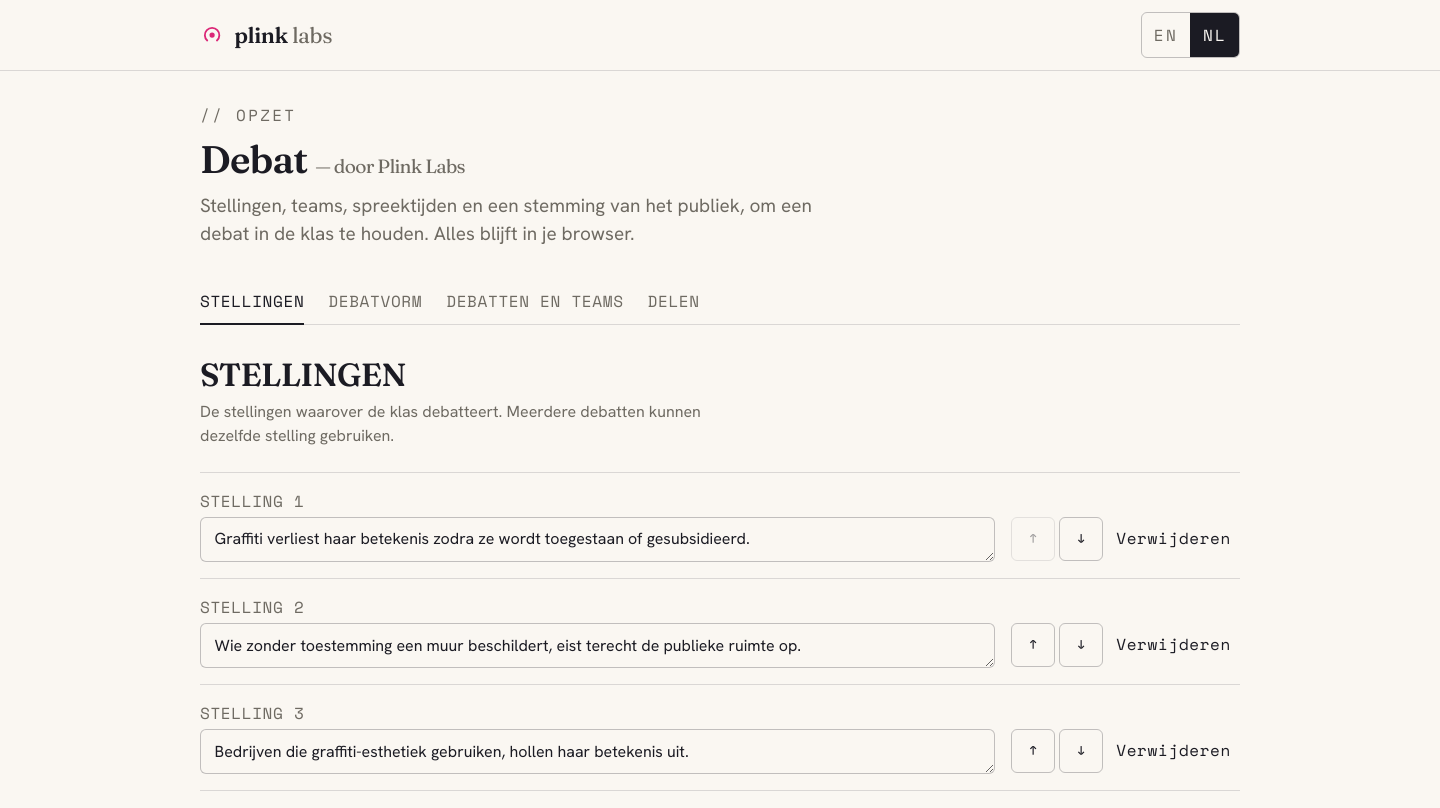
Scenario: App › renders in Dutch, and builds the default setup in the UI language
expect the heading "Debat — door Plink Labs" is shown: met, box [200, 135, 465, 183]
expect the text "// Opzet" is shown: met, box [200, 103, 296, 127]
Click the tab "Debatvorm".
click(375, 303)  # box [328, 281, 422, 325]
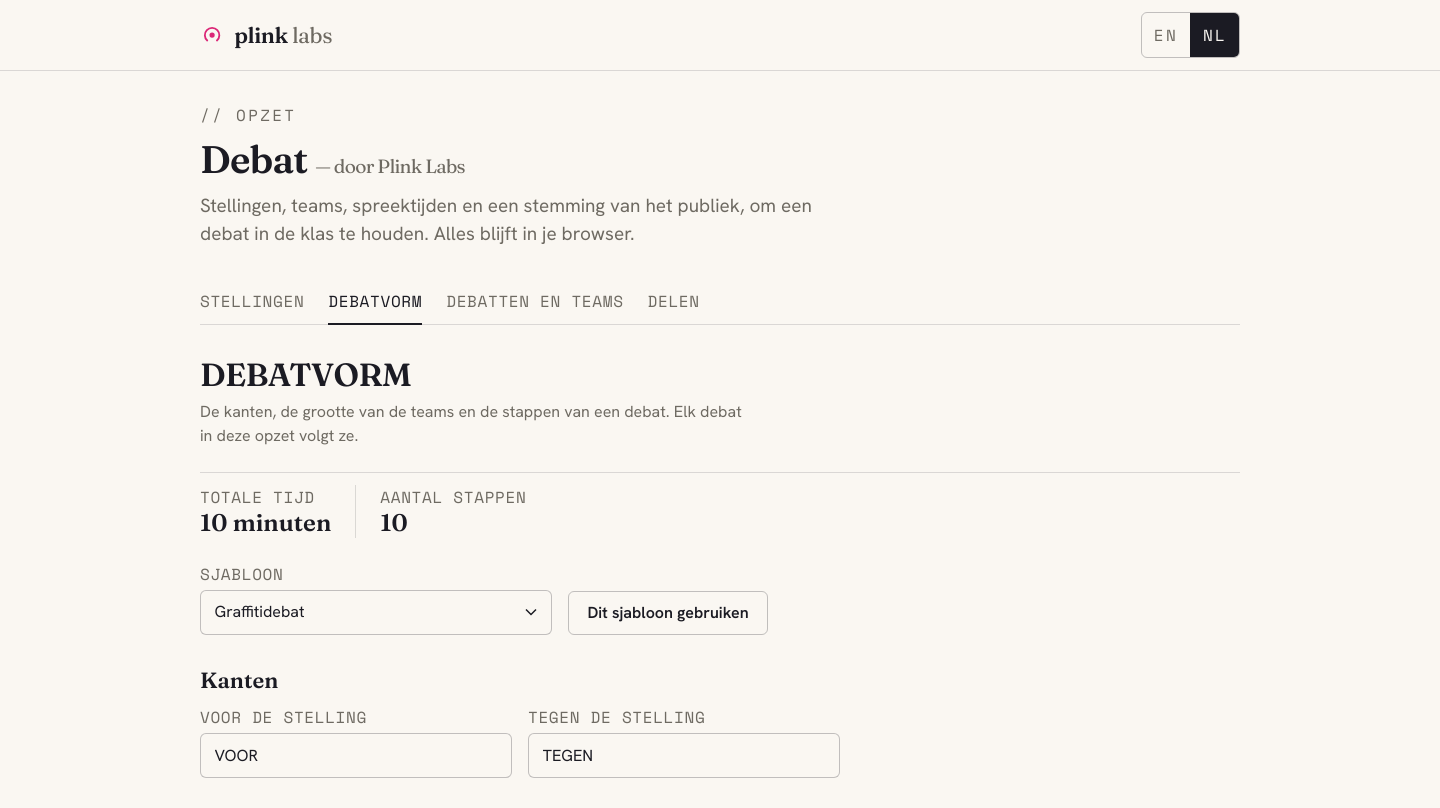
expect the field labelled "Voor de stelling" holds "VOOR": met, box [200, 733, 512, 778]
